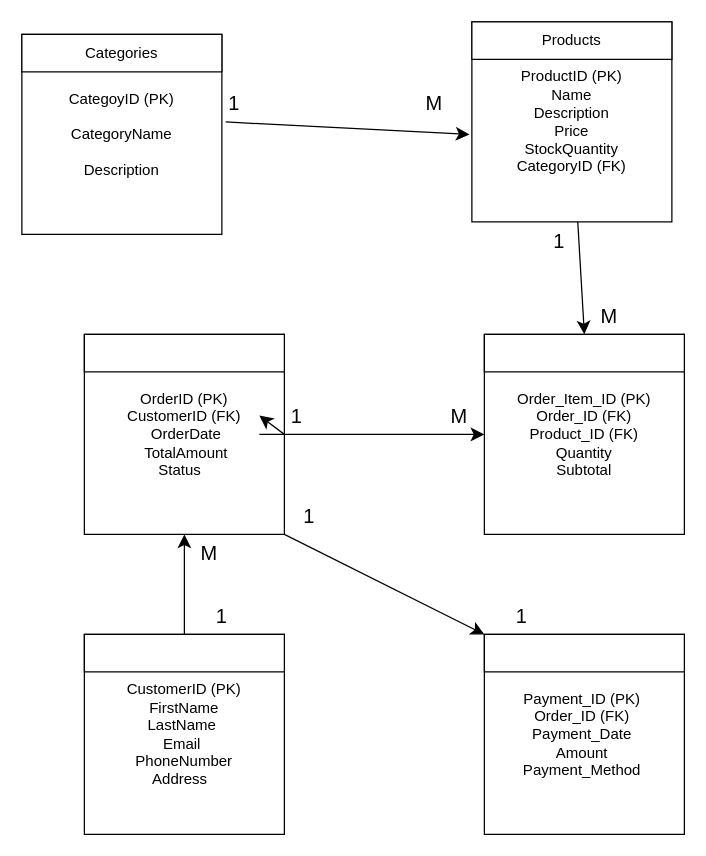
Some shapes in this 706 by 856 pixel diagram are drawn without their labels. Each missing label, with the centre of its shape:
"Customers" belongs at (183,652).
"Orders" belongs at (183,352).
"OrdersItems" belongs at (583,352).
"Payments" belongs at (583,652).
